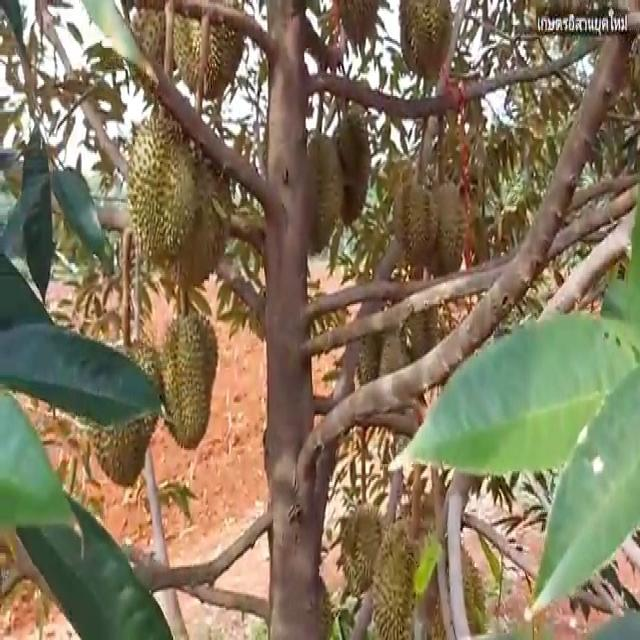durian: (81, 330, 161, 495), (121, 107, 199, 260), (156, 140, 232, 291), (370, 505, 449, 638), (412, 530, 489, 638), (157, 308, 214, 453), (169, 0, 250, 100), (287, 130, 344, 266), (335, 502, 390, 602), (328, 107, 372, 230), (422, 173, 469, 282), (395, 0, 455, 85), (390, 179, 440, 270), (405, 286, 446, 386)
